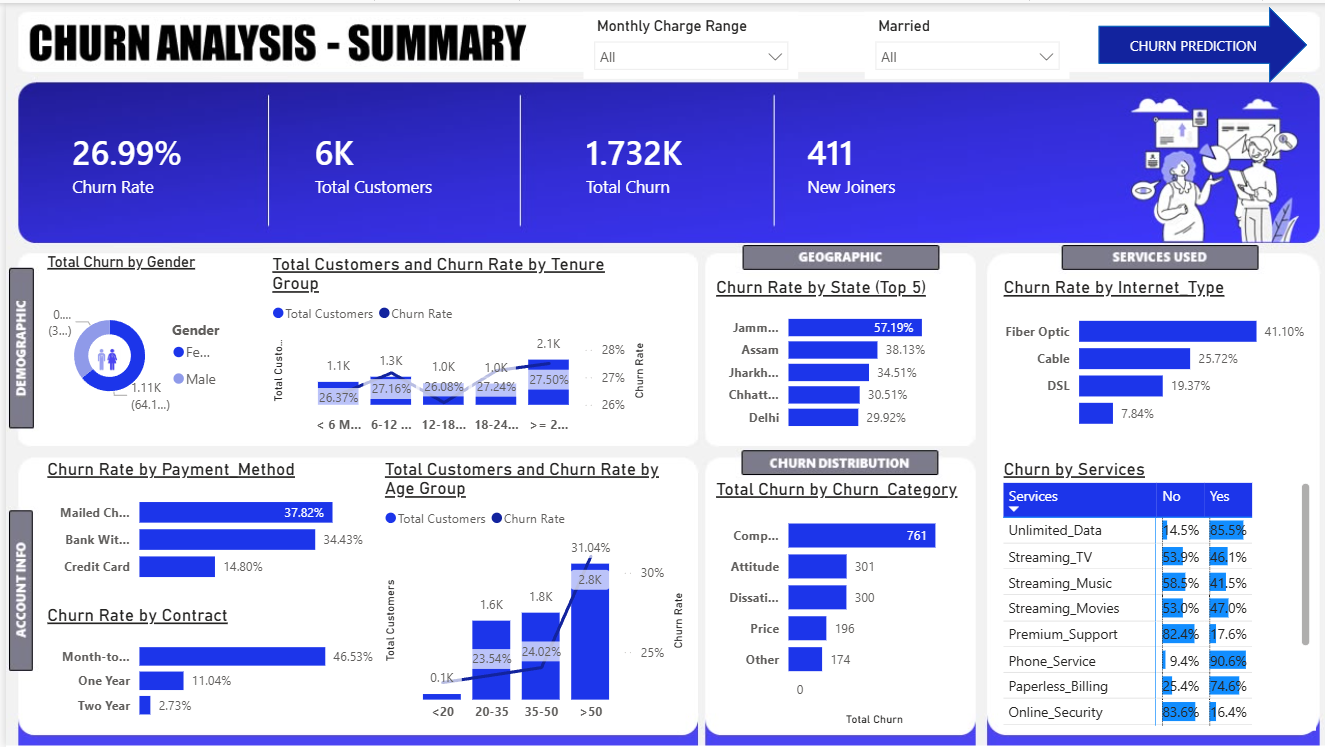

The page's visual inventory and layout, read from the dashboard file:
{"tool":"powerbi","page":{"name":"Summary","canvas":[1280,720],"ordinal":0},"visuals":[{"type":"image","box":[69.1,330,58.2,26.4],"z":0},{"type":"cardVisual","fields":{"Data":["Tbl_Measures.Total Customers"]},"box":[269.5,102.4,215.9,104.9],"z":1000},{"type":"cardVisual","fields":{"Data":["Tbl_Measures.Total Churn"]},"box":[530.5,102.4,213.4,104.9],"z":2000},{"type":"cardVisual","fields":{"Data":["Tbl_Measures.New Joiners"]},"box":[743.9,102.4,251.2,104.9],"z":3000},{"type":"cardVisual","fields":{"Data":["Tbl_Measures.Churn Rate"]},"box":[35.4,89,231.7,131.7],"z":4000},{"type":"donutChart","fields":{"Category":["db_churn prod_churn.Gender"],"Y":["Tbl_Measures.Total Churn"]},"box":[35.4,241.5,196.3,181.7],"z":5000},{"type":"lineStackedColumnComboChart","fields":{"Category":["mapping age group.Age Group"],"Y":["Tbl_Measures.Total Customers"],"Y2":["Tbl_Measures.Churn Rate"]},"box":[361,439,300,263.4],"z":6000},{"type":"clusteredBarChart","fields":{"Category":["db_churn prod_churn.Payment_Method"],"Y":["Tbl_Measures.Churn Rate"]},"box":[35.4,439,325.6,131.7],"z":7000},{"type":"clusteredBarChart","fields":{"Category":["db_churn prod_churn.Contract"],"Y":["Tbl_Measures.Churn Rate"]},"box":[35.4,580.5,325.6,122],"z":8000},{"type":"lineStackedColumnComboChart","fields":{"Category":["mapping_tenuregrp.Tenure Group"],"Y":["Tbl_Measures.Total Customers"],"Y2":["Tbl_Measures.Churn Rate"]},"box":[252.4,241.5,370.7,181.7],"z":9000},{"type":"clusteredBarChart","title":"Churn Rate by State (Top 5)","fields":{"Category":["db_churn prod_churn.State"],"Y":["Tbl_Measures.Churn Rate"]},"box":[680.5,264.6,246.3,158.5],"z":10000},{"type":"clusteredBarChart","fields":{"Category":["db_churn prod_churn.Churn_Category"],"Y":["Tbl_Measures.Total Churn"]},"box":[680.5,458.5,246.3,243.9],"z":11000},{"type":"clusteredBarChart","fields":{"Category":["db_churn prod_churn.Internet_Type"],"Y":["Tbl_Measures.Churn Rate"]},"box":[957.3,264.6,306.1,158.5],"z":12000},{"type":"pivotTable","title":"Churn by Services","fields":{"Columns":["prod_services.status"],"Rows":["prod_services.services"],"Values":["Sum(prod_services.Churn Status)"]},"box":[957.3,439,306.1,263.4],"z":13000},{"type":"slicer","fields":{"Values":["prod_services.Monthly Charge Status"]},"box":[557.4,8.4,207.5,65.1],"z":14000},{"type":"slicer","fields":{"Values":["prod_services.Married"]},"box":[828.8,8.4,197.9,65.1],"z":15000},{"type":"shape","box":[1054.4,3.6,201.5,73.6],"z":16000}]}

Visuals, with their boxes in screenshot pixels (x1, y1, x2, y2), scaled from the page's 1280x720 canvas onto the 1325x747 screenshot:
image: <box>72,342,132,370</box>
cardVisual - Tbl_Measures.Total Customers: <box>279,106,502,215</box>
cardVisual - Tbl_Measures.Total Churn: <box>549,106,770,215</box>
cardVisual - Tbl_Measures.New Joiners: <box>770,106,1030,215</box>
cardVisual - Tbl_Measures.Churn Rate: <box>37,92,276,229</box>
donutChart - db_churn prod_churn.Gender x Tbl_Measures.Total Churn: <box>37,251,240,439</box>
lineStackedColumnComboChart - mapping age group.Age Group x Tbl_Measures.Total Customers: <box>374,455,684,729</box>
clusteredBarChart - db_churn prod_churn.Payment_Method x Tbl_Measures.Churn Rate: <box>37,455,374,592</box>
clusteredBarChart - db_churn prod_churn.Contract x Tbl_Measures.Churn Rate: <box>37,602,374,729</box>
lineStackedColumnComboChart - mapping_tenuregrp.Tenure Group x Tbl_Measures.Total Customers: <box>261,251,645,439</box>
"Churn Rate by State (Top 5)" clusteredBarChart: <box>704,275,959,439</box>
clusteredBarChart - db_churn prod_churn.Churn_Category x Tbl_Measures.Total Churn: <box>704,476,959,729</box>
clusteredBarChart - db_churn prod_churn.Internet_Type x Tbl_Measures.Churn Rate: <box>991,275,1308,439</box>
"Churn by Services" pivotTable: <box>991,455,1308,729</box>
slicer - prod_services.Monthly Charge Status: <box>577,9,792,76</box>
slicer - prod_services.Married: <box>858,9,1063,76</box>
shape: <box>1091,4,1300,80</box>
